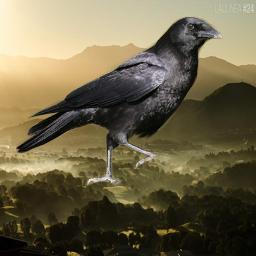Crow: (16, 15, 228, 189)
